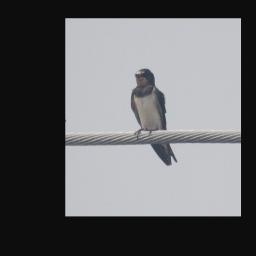Swallow: (131, 68, 178, 166)
